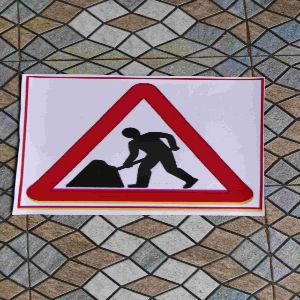men at work: (20, 74, 265, 215)
